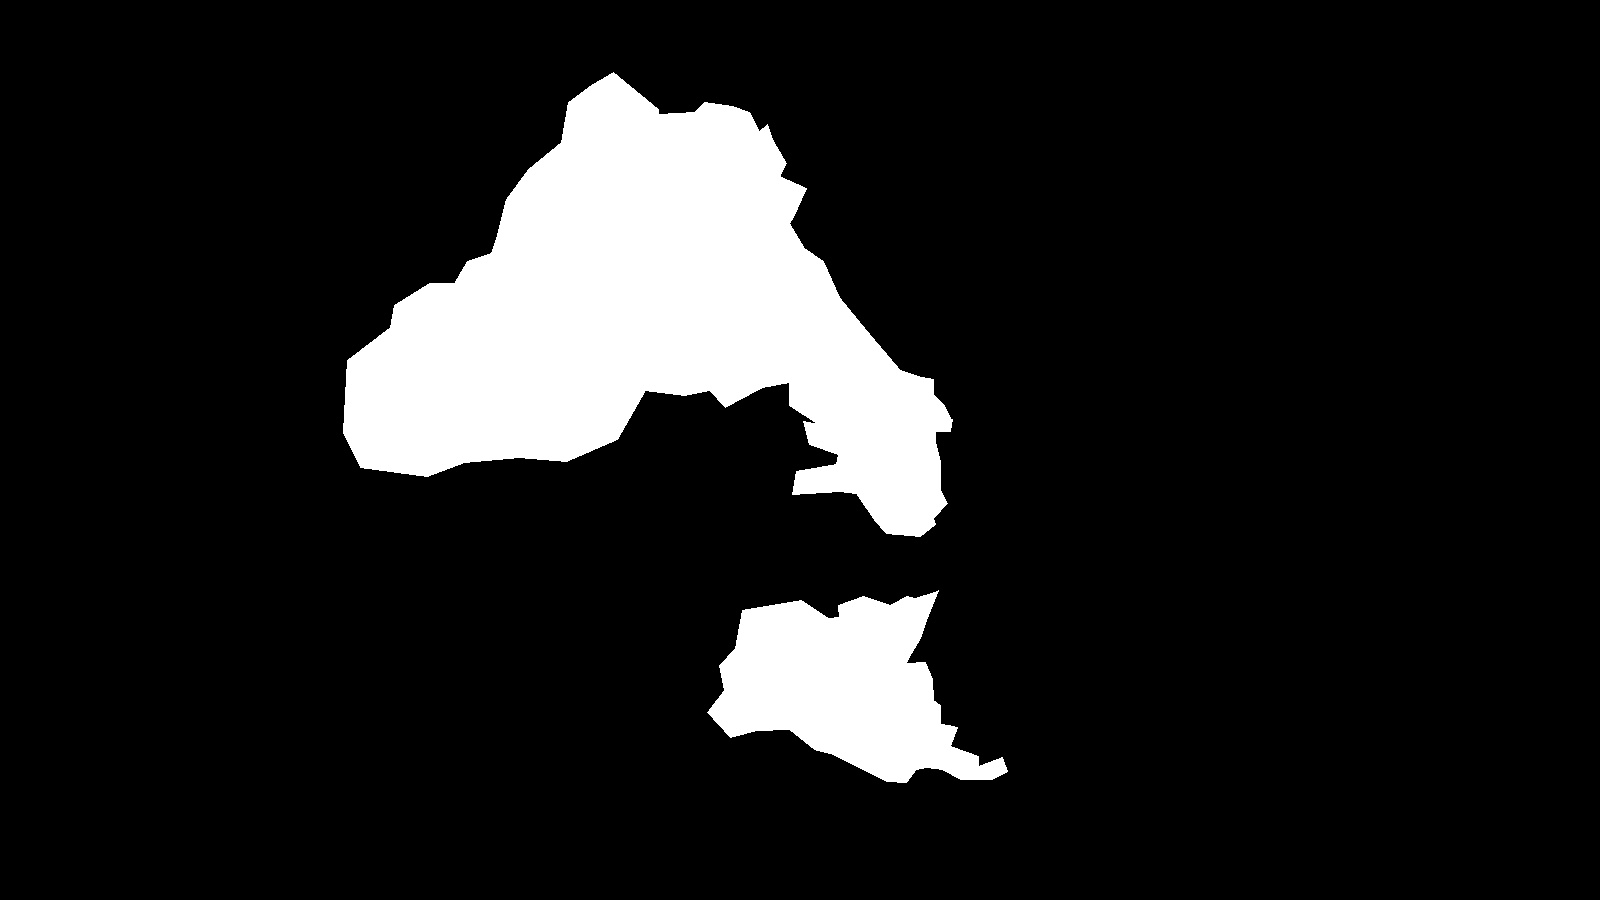Fire: (374, 101, 811, 466), (751, 596, 993, 784)
